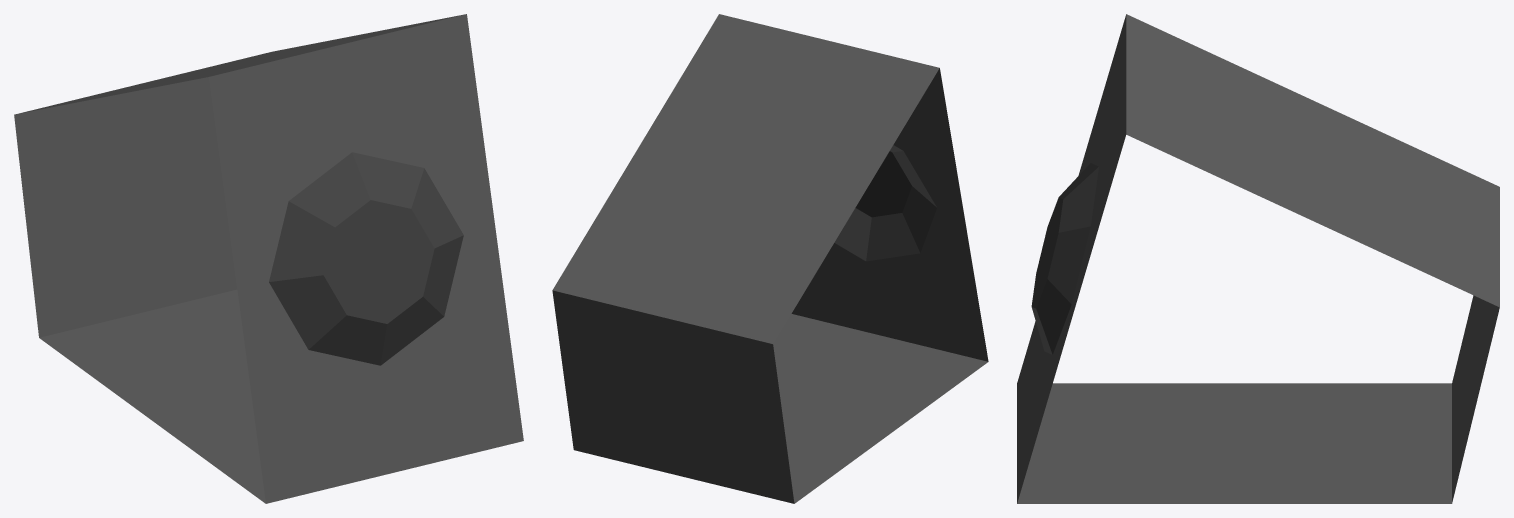
Rendered from Itr_Obj_Speaker2_Middle_03.FBX.
3 views of the same model, side by side, from view 1: azimuth 30°, elevation 25°; view 2: azimuth 150°, elevation 25°; view 3: azimuth 270°, elevation 25° (orthographic). The views are drawn at different scales.
Visible parts, largest first — view 1: Itr_Obj_Speaker2_Middle_03; view 2: Itr_Obj_Speaker2_Middle_03; view 3: Itr_Obj_Speaker2_Middle_03.
Part boxes in pixels (x1,y1,x2,y2): Itr_Obj_Speaker2_Middle_03: (14,14,523,503); Itr_Obj_Speaker2_Middle_03: (552,14,988,503); Itr_Obj_Speaker2_Middle_03: (1017,14,1499,503).
Bounding box in the file's own units: 6.69 × 9.54 × 11.31.
